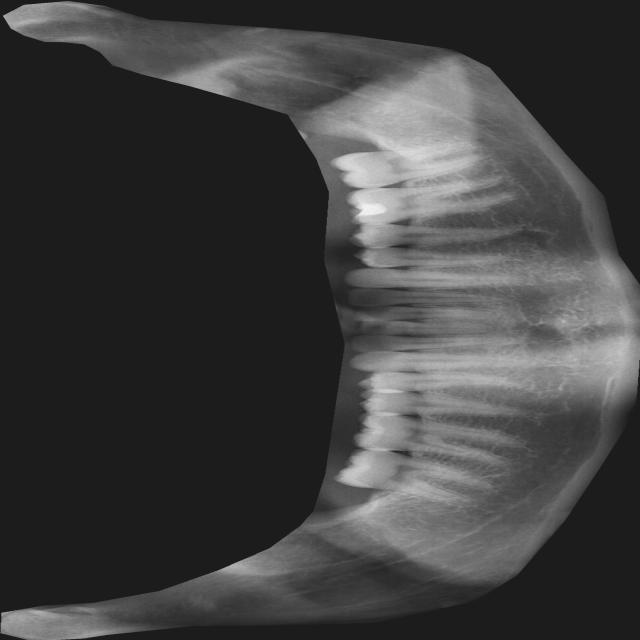mandibula: (0, 0, 640, 640)
